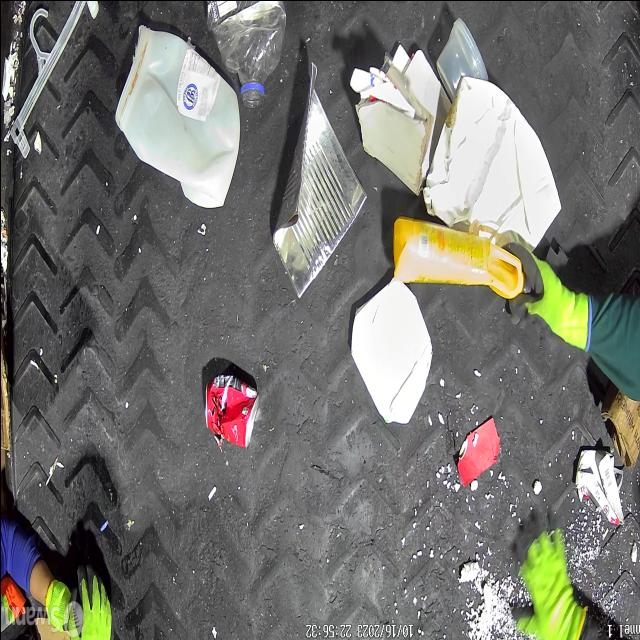can: (204, 374, 258, 449)
milk_jug: (114, 23, 240, 207)
non_white_jug: (390, 217, 530, 299)
plastic_bottle: (203, 0, 285, 107)
